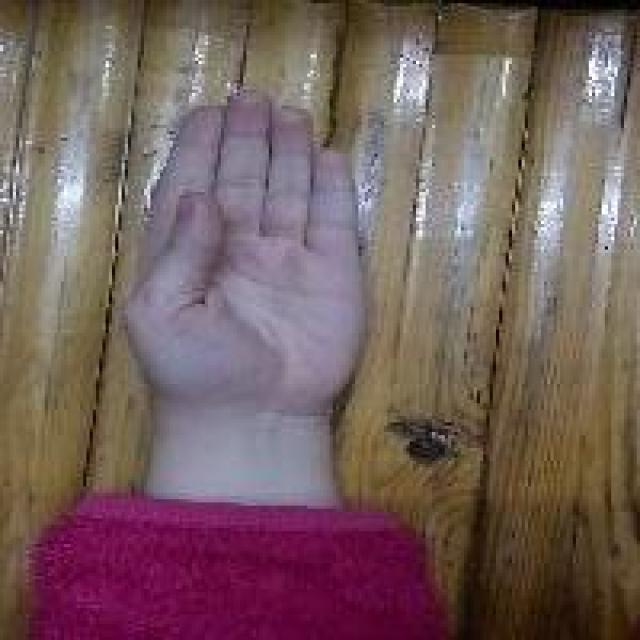B: (123, 86, 363, 432)
